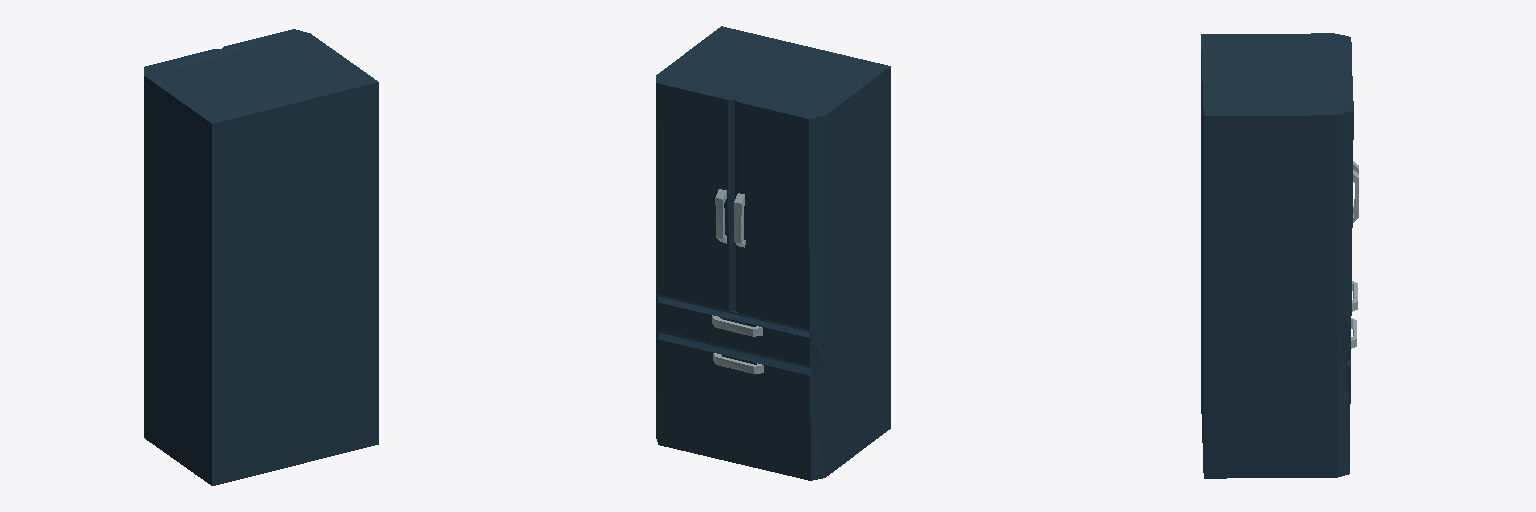
File: fridge.obj
The picture shows the model from 3 angles: view 1: azimuth 30°, elevation 25°; view 2: azimuth 150°, elevation 25°; view 3: azimuth 270°, elevation 25°; orthographic projection.
Visible parts, largest first — view 1: group[number redacted]; view 2: group[number redacted]; view 3: group[number redacted].
Part boxes in pixels (bbox=[...]): group[number redacted]: bbox=[144, 29, 378, 485]; group[number redacted]: bbox=[656, 26, 890, 480]; group[number redacted]: bbox=[1201, 33, 1358, 478].
Bounding box in the file's own units: 73.69 × 151 × 59.49.